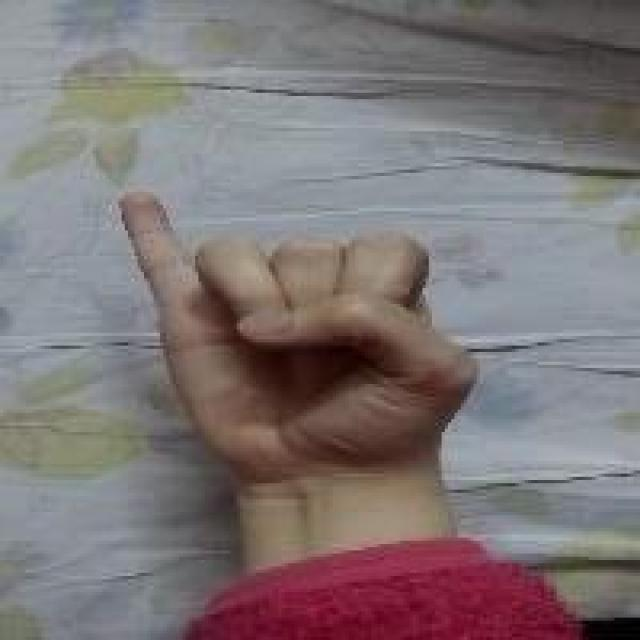I: (116, 184, 498, 482)
